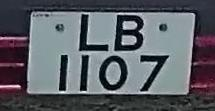0: (93, 52, 133, 95)
1: (52, 52, 81, 96), (70, 53, 95, 94)
7: (129, 50, 172, 96)
B: (106, 12, 148, 55)
L: (70, 11, 111, 56)
